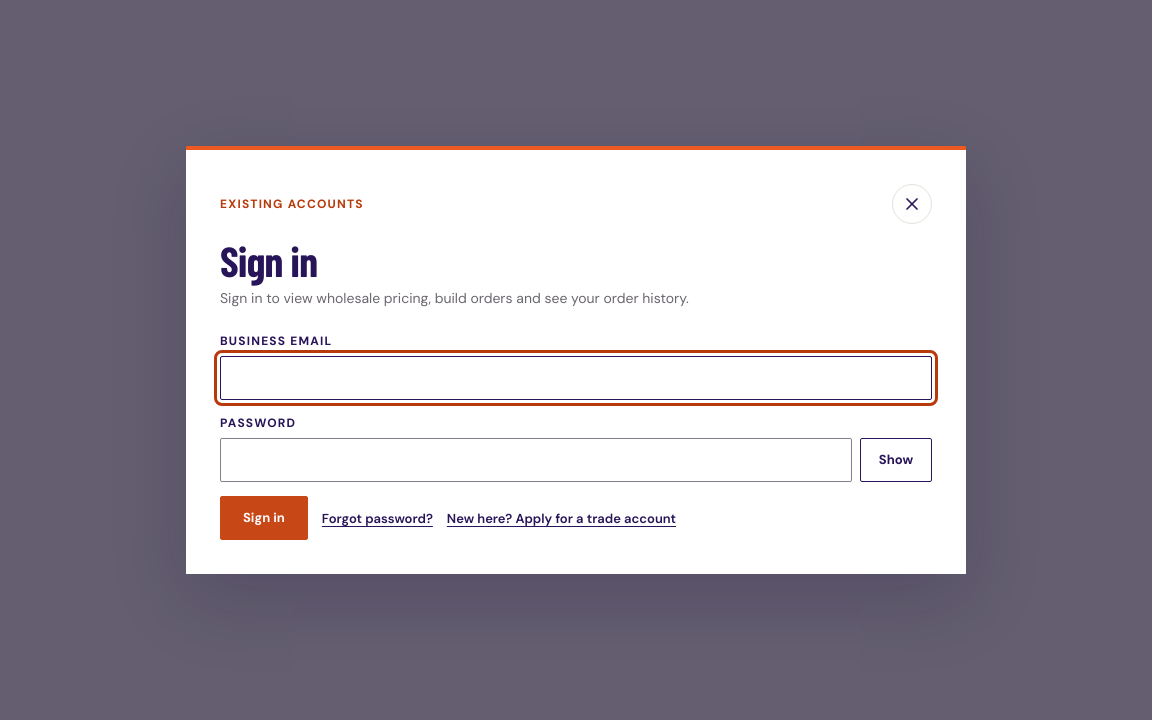
Scenario: AuthModal on a slow or missing connection › says the buyer is offline, not that sign-in is unavailable
The width and height of the screenshot is (1152, 720).
In the field labelled "Business email": (576, 378) [220,356,932,400], type "buyer@example.test"
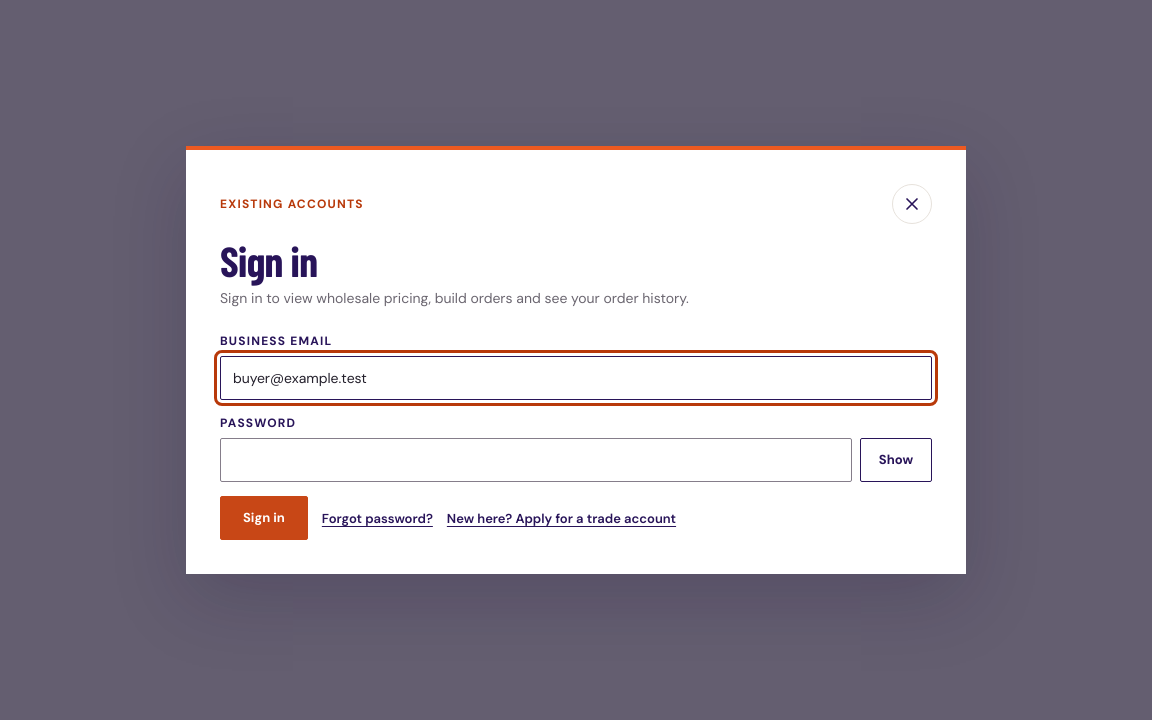
In the password field labelled "Password": (536, 460) [220,438,852,482], type "test-password-1"
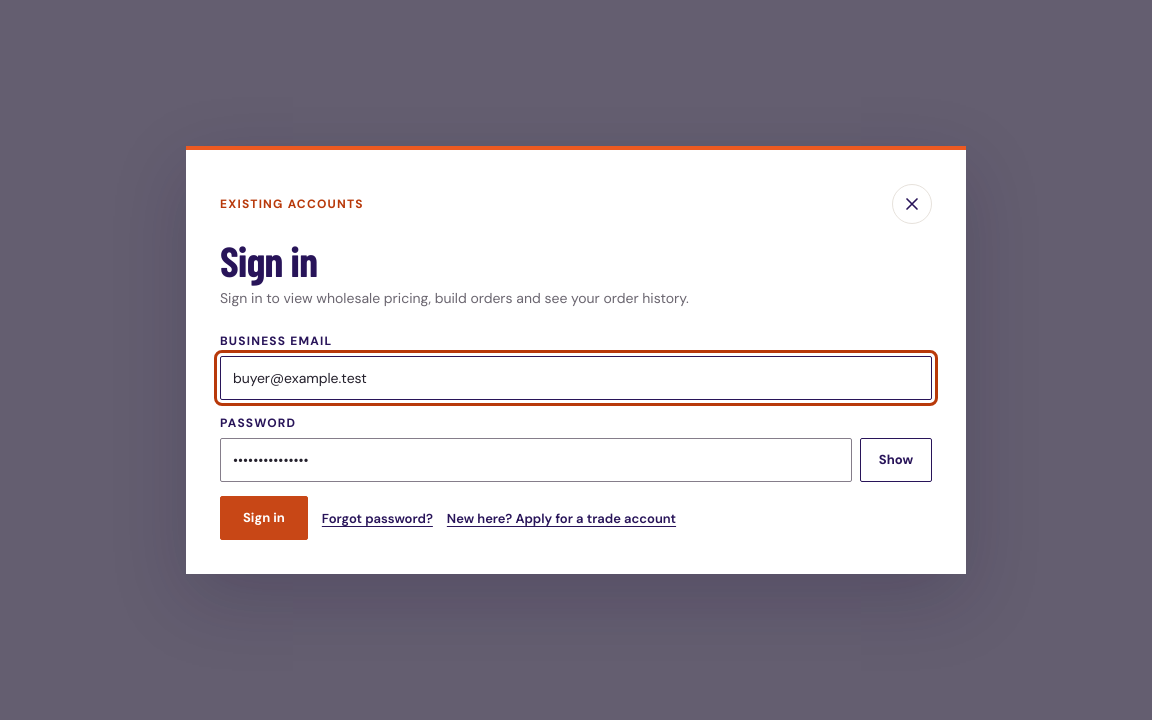
Click the button "Sign in": (264, 518) [220,496,308,540]
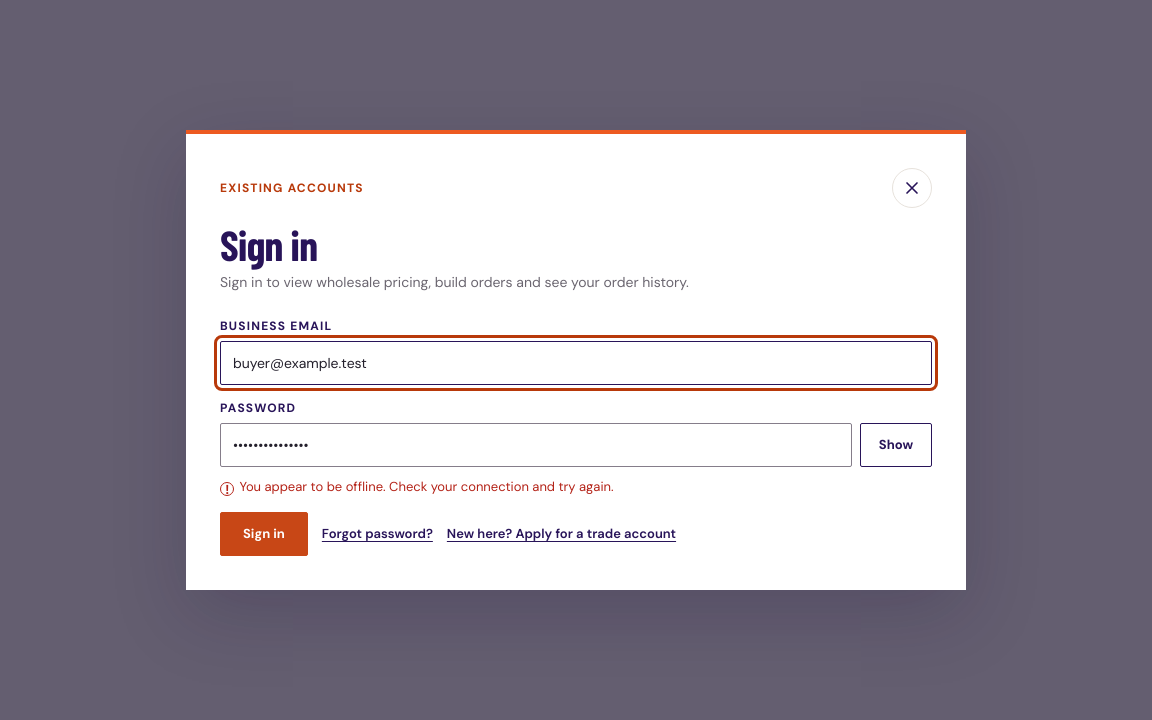
Expected: the message reads "You appear to be offline. Check your connection and try again.", [240,478,614,495]
